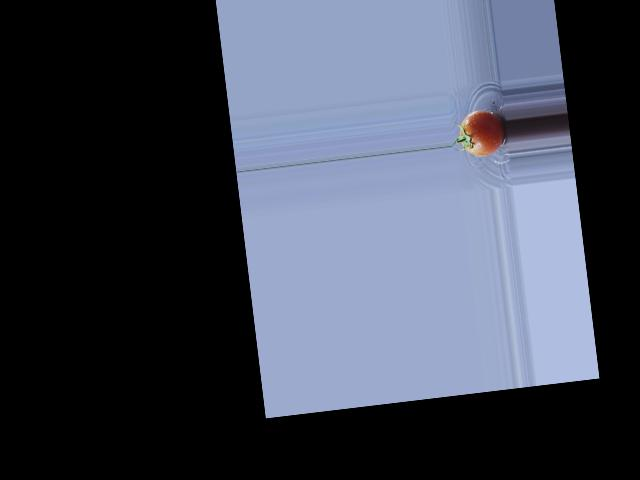tomato: (457, 108, 507, 158)
